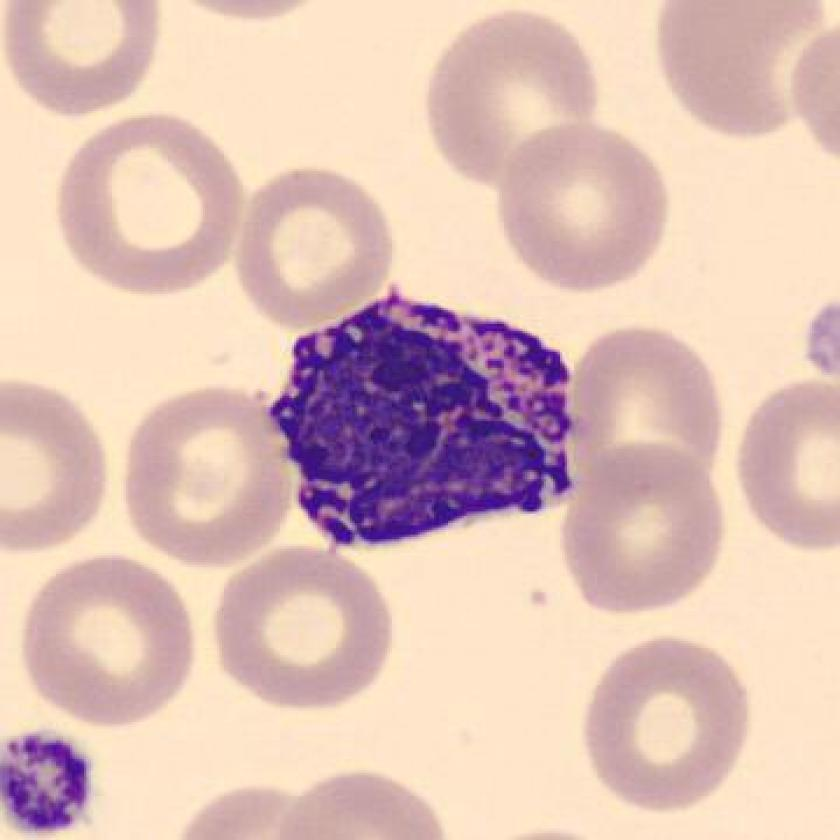basophil: (274, 286, 591, 552)
